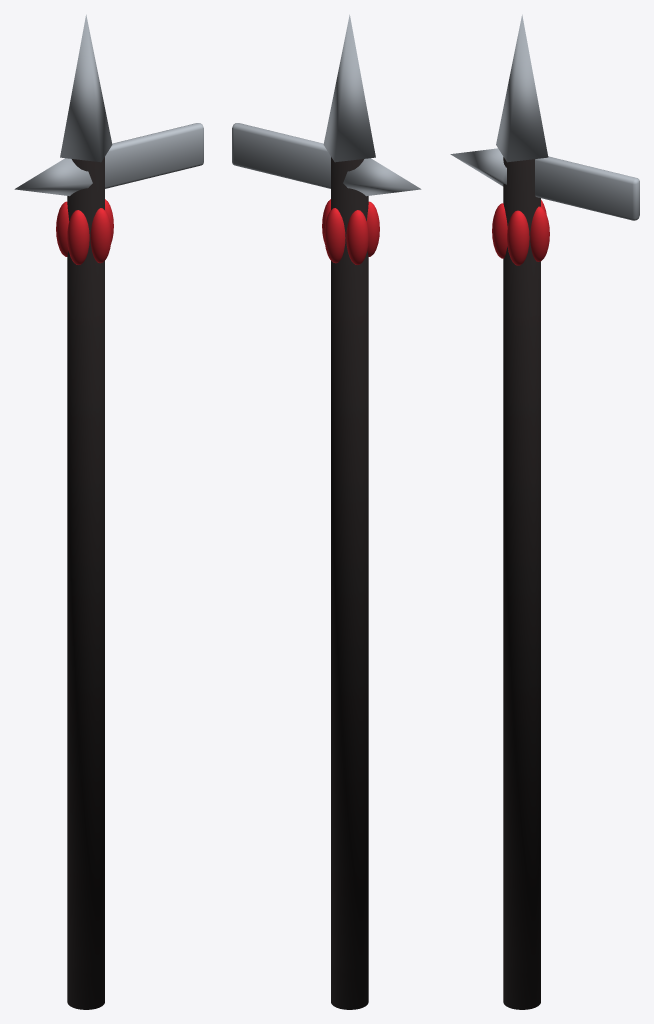
Rendered from alabarda.glb.
The picture shows the model from 3 angles, left to right: view 1: azimuth 30°, elevation 25°; view 2: azimuth 150°, elevation 25°; view 3: azimuth 330°, elevation 25°; orthographic projection.
Parts seen in each view (by area): view 1: alabarda_fijo; view 2: alabarda_fijo; view 3: alabarda_fijo.
Part boxes in pixels (x1,y1,x2,y2): alabarda_fijo: (14,14,203,1009); alabarda_fijo: (232,14,421,1009); alabarda_fijo: (450,14,639,1009).
Size of the model in its own units: 0.575 by 2.88 by 0.16.
Materials: 1 (1 with a texture image).
